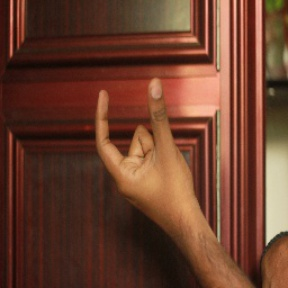U: (89, 70, 188, 212)
